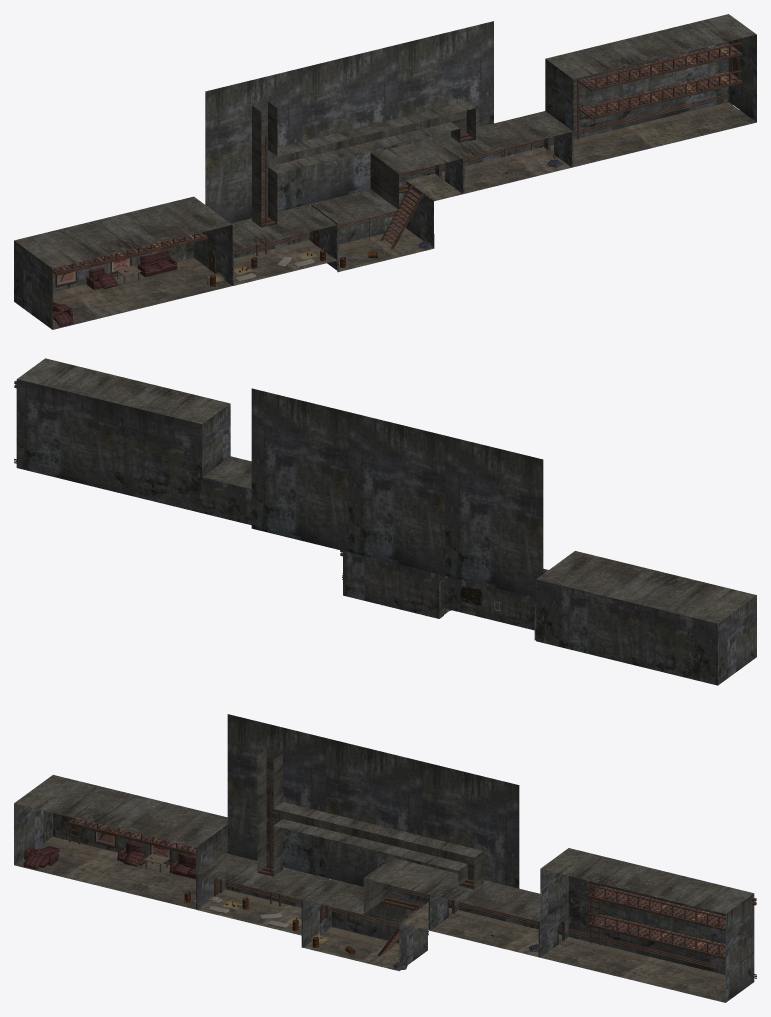
Rendered from Location1BLife2.FBX.
3 views of the same model, one above another, from view 1: azimuth 30°, elevation 25°; view 2: azimuth 150°, elevation 25°; view 3: azimuth 330°, elevation 25° (orthographic).
Parts seen in each view (by area): view 1: Box28, Object002, Object001, Stair, Box47, Mebel, Stairs, DownStairs, Box04; view 2: Box28, Object002, Object001, Stairs, DownStairs; view 3: Box28, Object002, Object001, Stair, Mebel, Box47, Stairs, Box04, DownStairs.
Boxes of the visible parts, box(x1,y1,x2,y2) form: Box28: box(205, 21, 573, 285); Object002: box(406, 14, 756, 201); Object001: box(14, 196, 233, 329); Stair: box(573, 39, 742, 139); Box47: box(52, 133, 531, 275); Mebel: box(52, 249, 224, 326); Stairs: box(399, 93, 729, 178); DownStairs: box(234, 186, 423, 254); Box04: box(234, 153, 562, 281); Box28: box(251, 388, 548, 630); Object002: box(16, 358, 251, 525); Object001: box(534, 551, 756, 685); Stairs: box(14, 458, 251, 520); DownStairs: box(342, 575, 534, 626); Box28: box(197, 714, 568, 971); Object002: box(399, 848, 754, 1002); Object001: box(14, 775, 227, 909); Stair: box(588, 881, 756, 962); Mebel: box(23, 831, 195, 903); Box47: box(68, 784, 568, 935); Stairs: box(391, 885, 756, 978); Box04: box(208, 896, 538, 969); DownStairs: box(225, 881, 428, 956).
Bounding box in the file's own units: 2052 × 515 × 195.
Materials: 3 (3 with a texture image).
